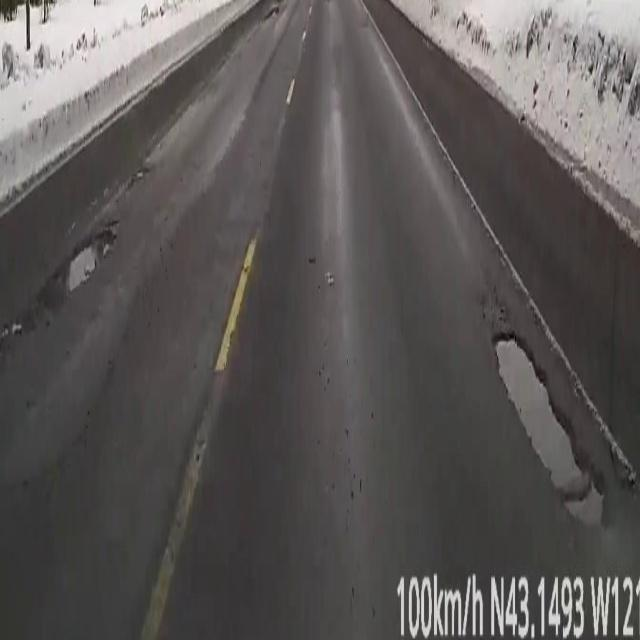pothole: (504, 325, 594, 533), (68, 223, 114, 290)
